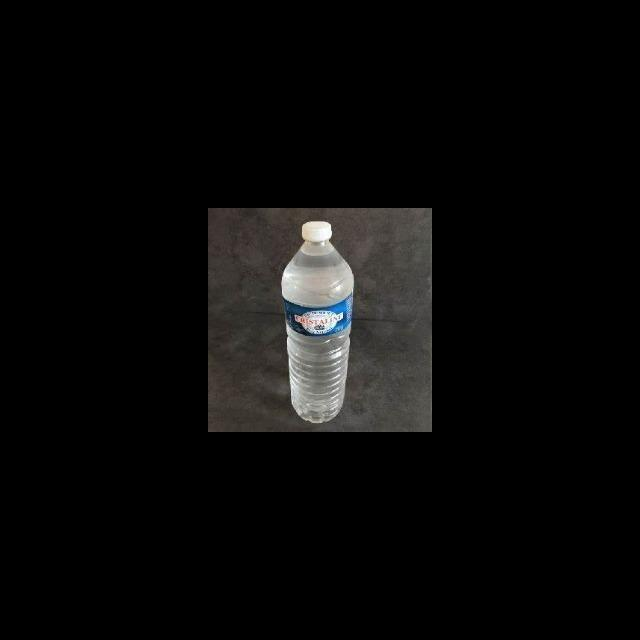plastic: (269, 218, 360, 428)
